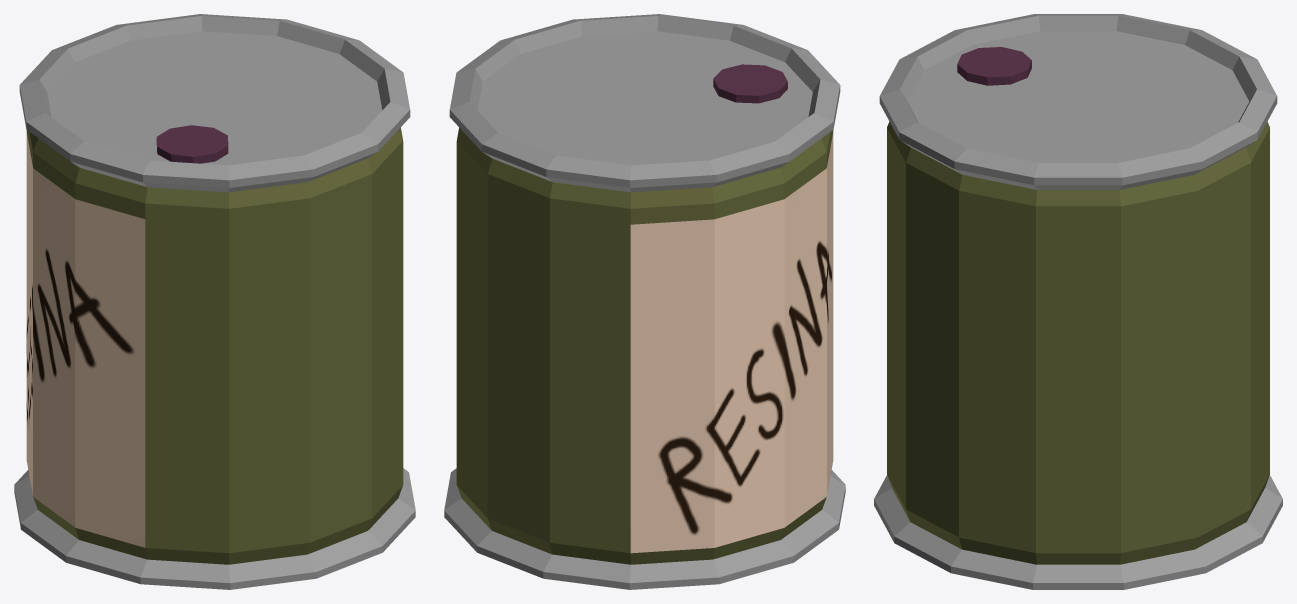
Rendered from boteresina.fbx.
The picture shows the model from 3 angles, left to right: view 1: azimuth 30°, elevation 25°; view 2: azimuth 150°, elevation 25°; view 3: azimuth 270°, elevation 25°; orthographic projection.
Parts seen in each view (by area): view 1: boteresina; view 2: boteresina; view 3: boteresina.
Boxes of the visible parts, x1=… form: boteresina: x1=14, y1=14, x2=415, y2=589; boteresina: x1=444, y1=14, x2=845, y2=589; boteresina: x1=874, y1=14, x2=1282, y2=589.
Bounding box in the file's own units: 64.34 × 74.18 × 65.99.
